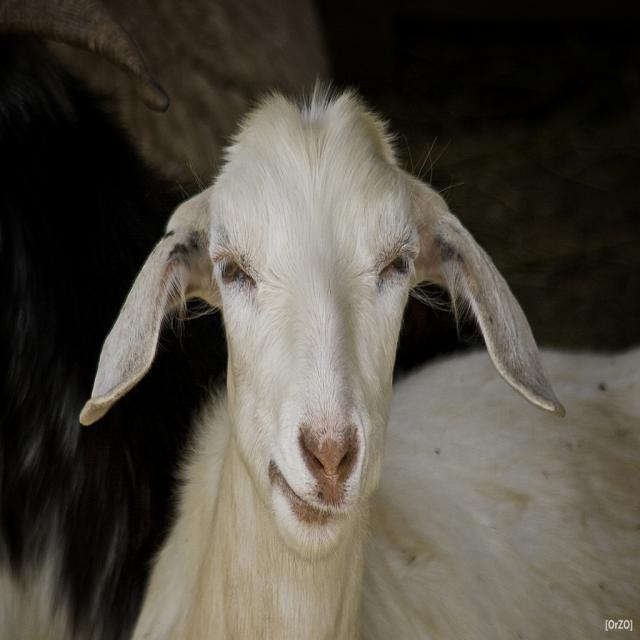Goat: (76, 72, 640, 639)
